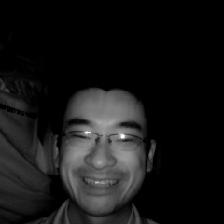happy: (49, 76, 161, 216)
